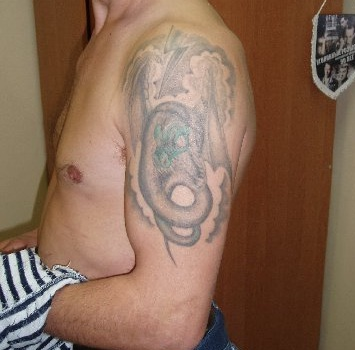tatu7_zmeya: (139, 86, 229, 273)
